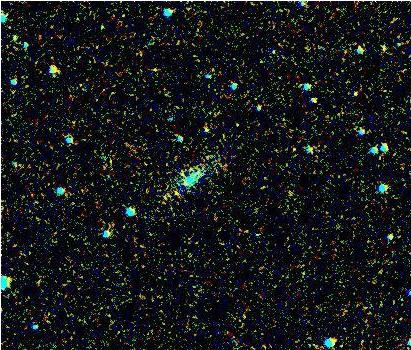star: (225, 109, 255, 139)
